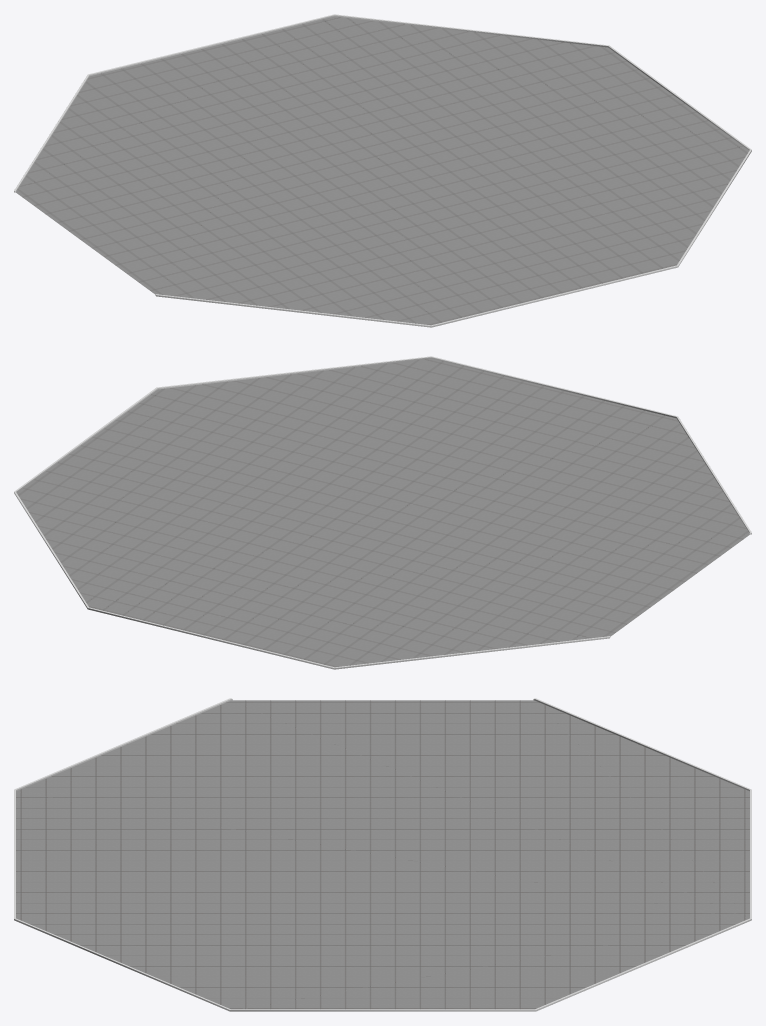
Rendered from Towerlevel_Floor.fbx.
3 renders of one model, top to bottom at view 1: azimuth 30°, elevation 25°; view 2: azimuth 150°, elevation 25°; view 3: azimuth 270°, elevation 25°, orthographic. The views are drawn at different scales.
Visible parts, largest first — view 1: towerlevelfloor; view 2: towerlevelfloor; view 3: towerlevelfloor.
Boxes of the visible parts, <box> form: towerlevelfloor: <box>14,14,751,327</box>; towerlevelfloor: <box>14,356,751,669</box>; towerlevelfloor: <box>14,698,751,1011</box>.
Bounding box in the file's own units: 9076 × 22.81 × 9076.
